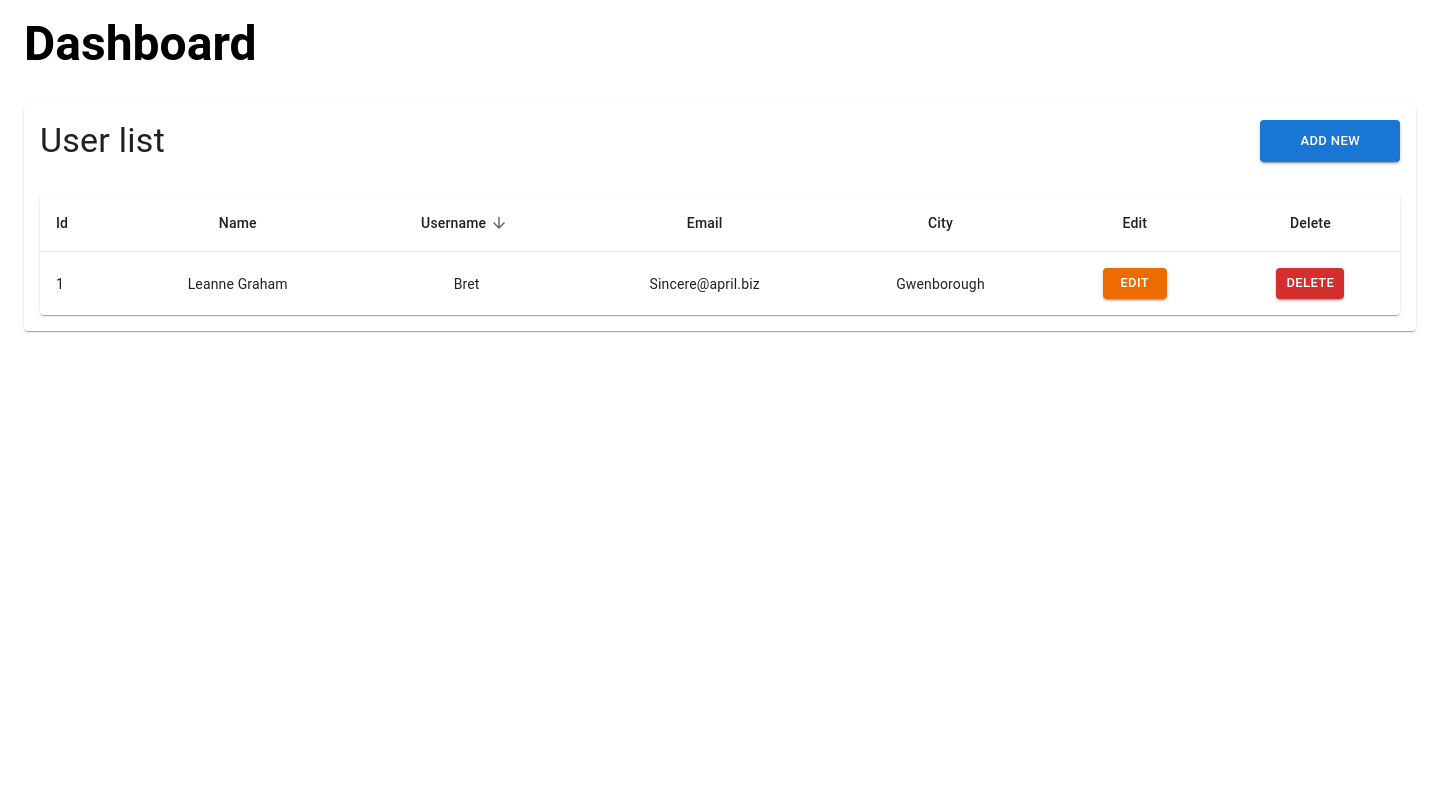
Test: view :: Dashboard › when delete only user › should show no user message
The width and height of the screenshot is (1440, 810).
Click the button "delete" at [1310, 284], box [1276,268,1344,299]
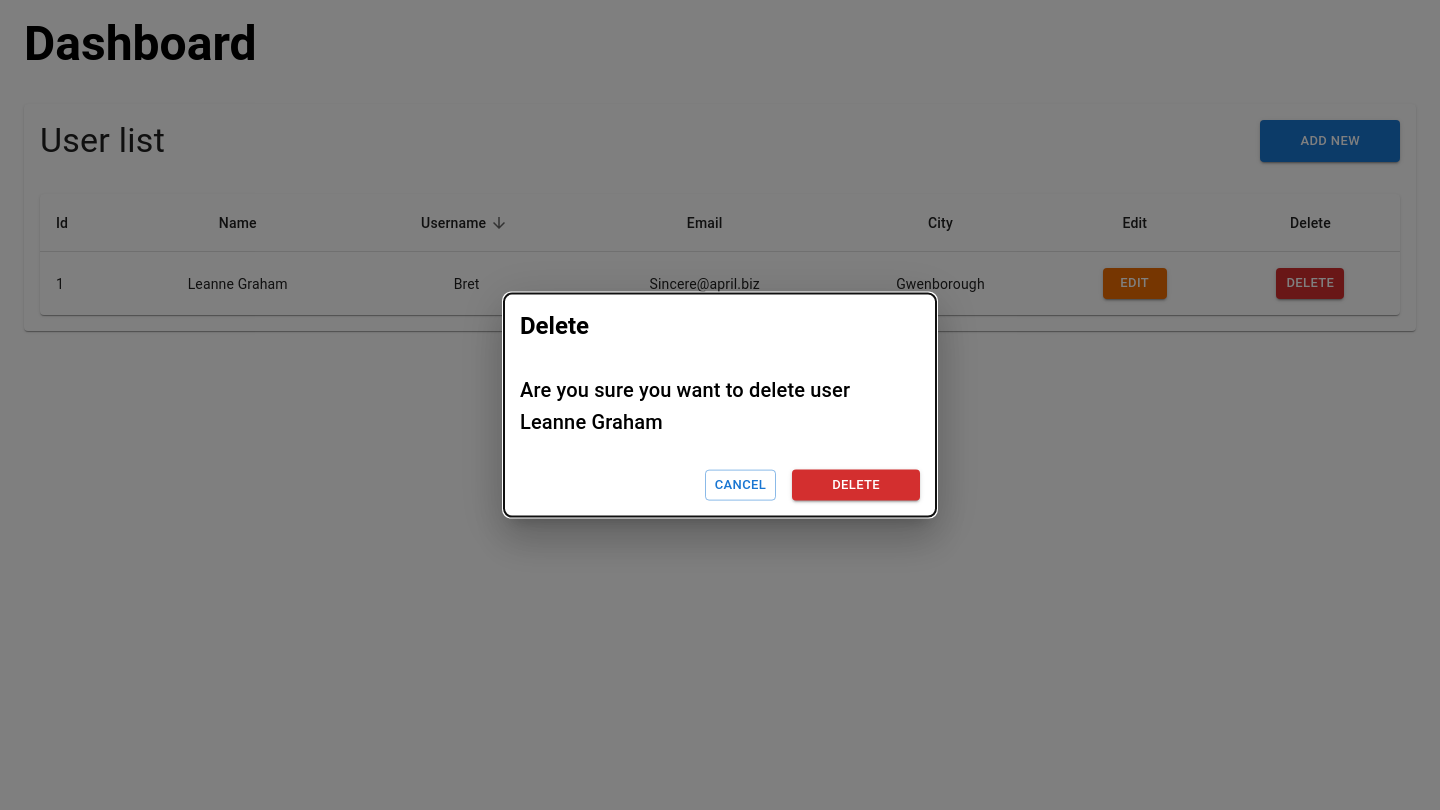
Click the button "Delete" at [856, 485], box [792,470,920,500]
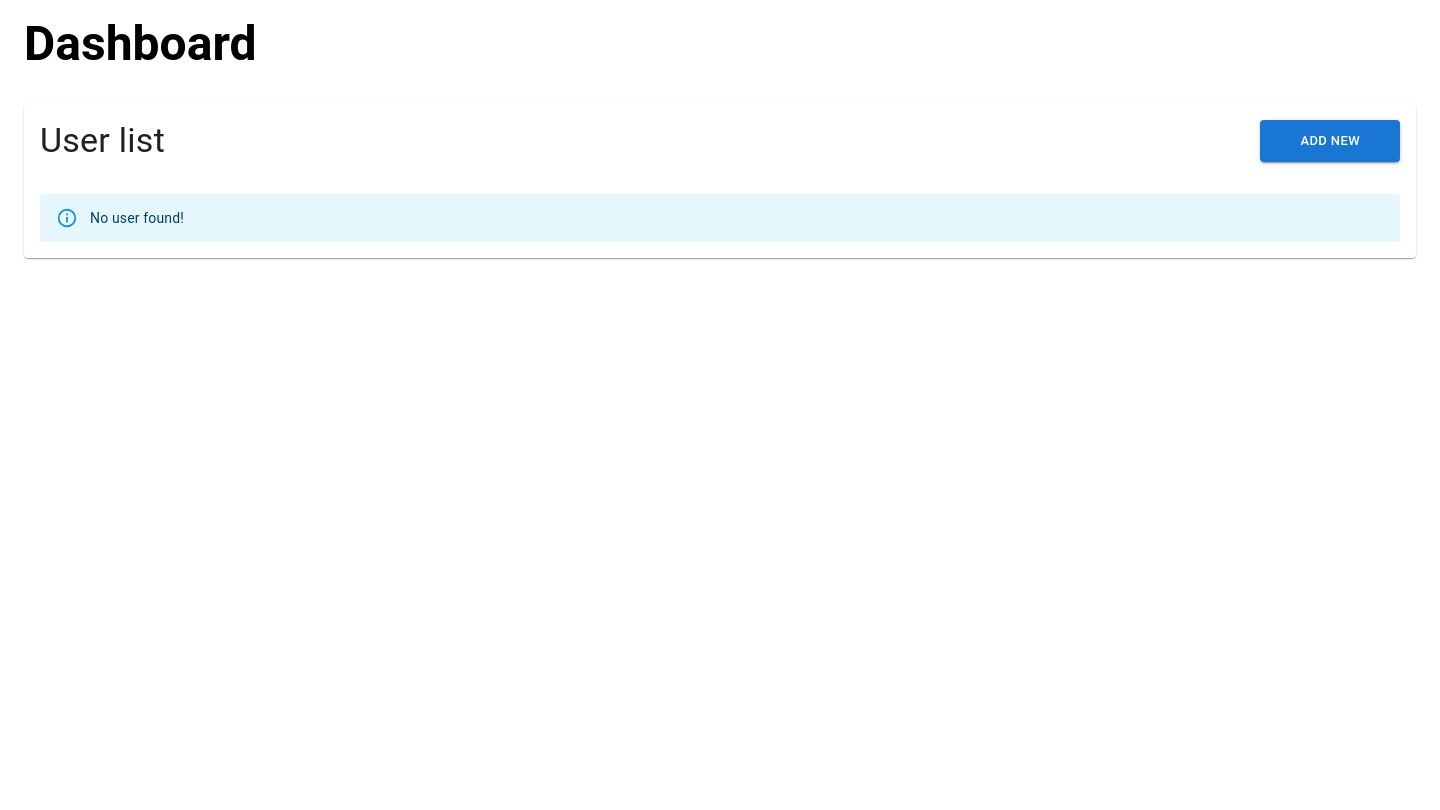
Check: the text "No user found!" is shown, box [90,210,184,226]
Check: the text "Leanne Graham" is gone
